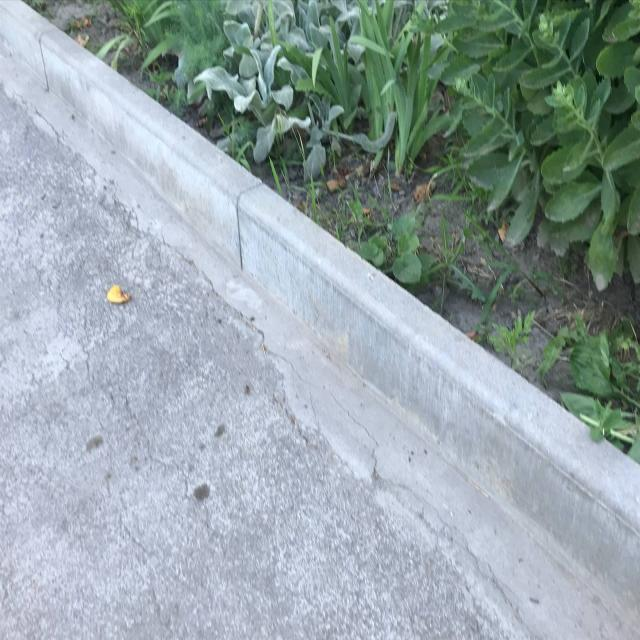bump: (409, 352, 639, 621), (243, 204, 464, 416)
